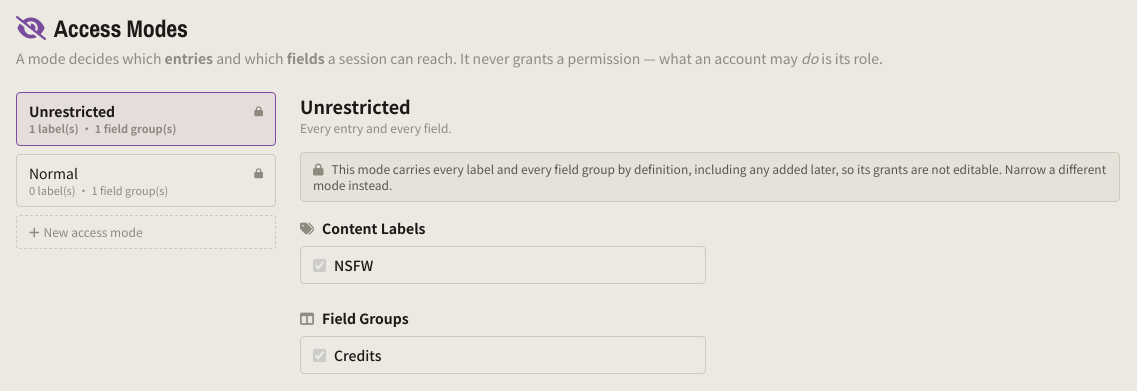
Test: every other mode › offers a Save button
Click the text "Normal" at coordinates (53, 173), box [29,163,78,183]
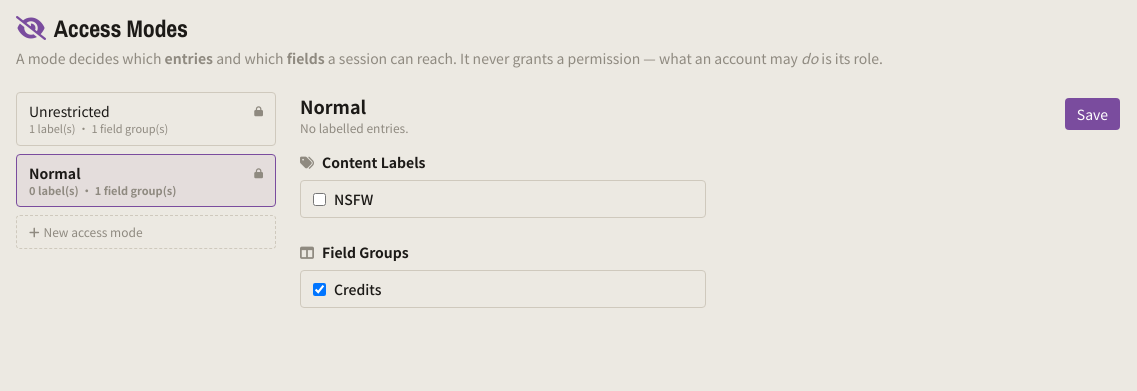
Now the button "Save" is shown, box [1065,98,1120,130]
